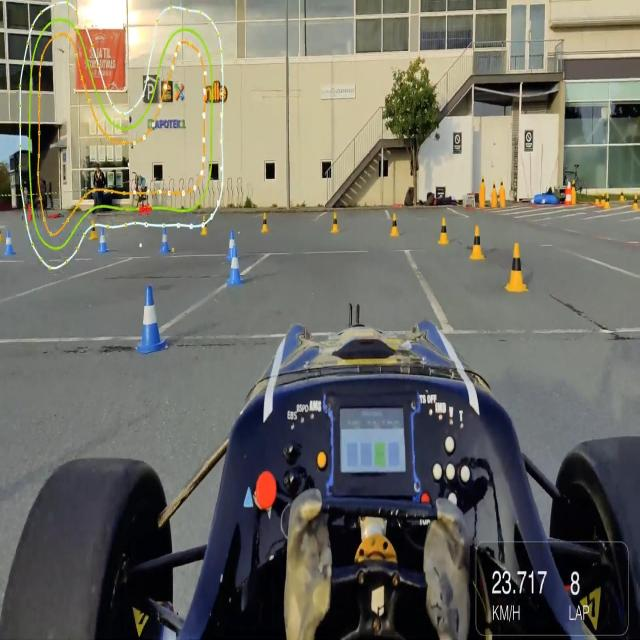blue_cone: (138, 281, 164, 356), (227, 243, 244, 292), (158, 223, 172, 258), (99, 220, 110, 257), (228, 227, 237, 262), (6, 230, 16, 258)
large_orange_cone: (566, 179, 573, 207)
yellow_cone: (508, 233, 527, 303), (470, 218, 484, 266), (387, 206, 401, 242), (437, 212, 451, 245), (327, 208, 342, 236), (259, 205, 271, 234), (202, 215, 210, 237), (90, 218, 98, 240)
